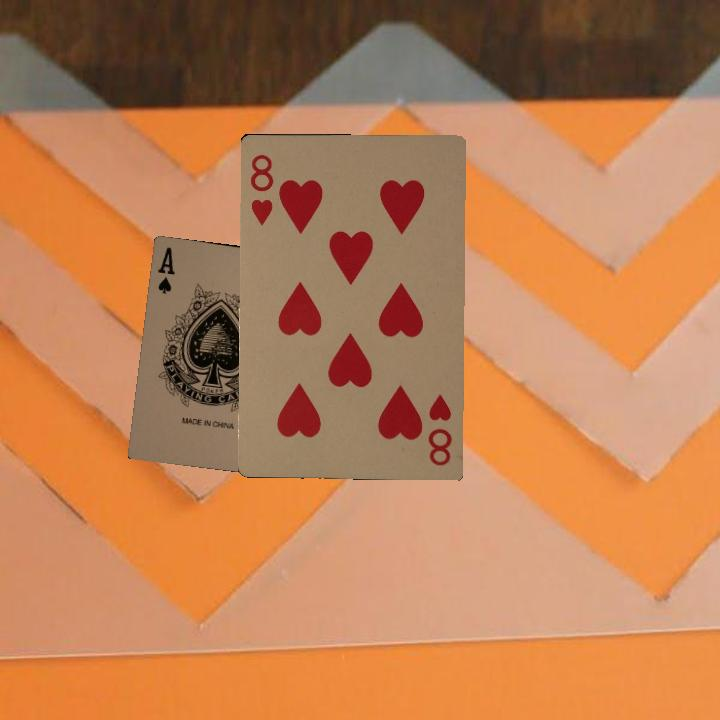8h: (424, 390, 454, 468), (246, 151, 276, 226)
As: (154, 243, 177, 297)
